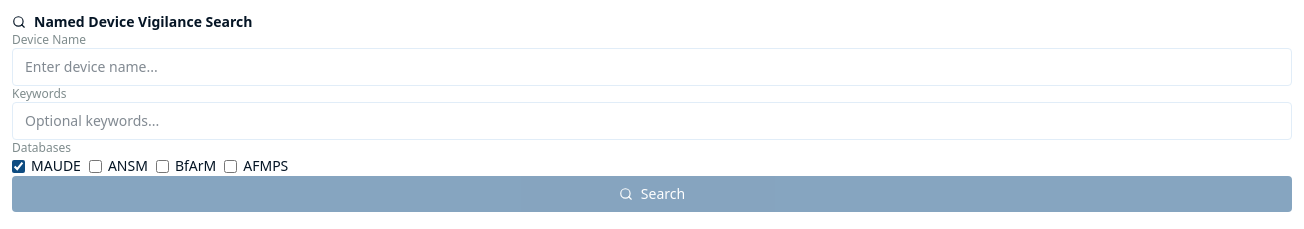
Test case: NamedDeviceSearchPanel › enables search button when device name entered
In the field with test id "device-name-input": {"x": 652, "y": 67} left=12, top=48, right=1292, bottom=86, type "CardioDevice"
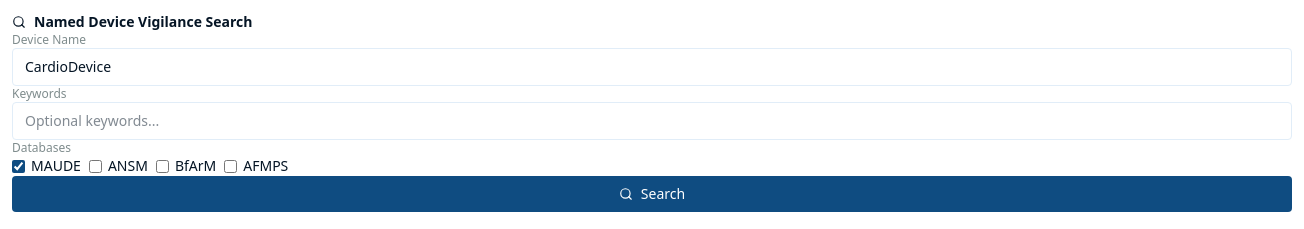
Check: the button with test id "search-btn" is enabled, box left=12, top=176, right=1292, bottom=212
